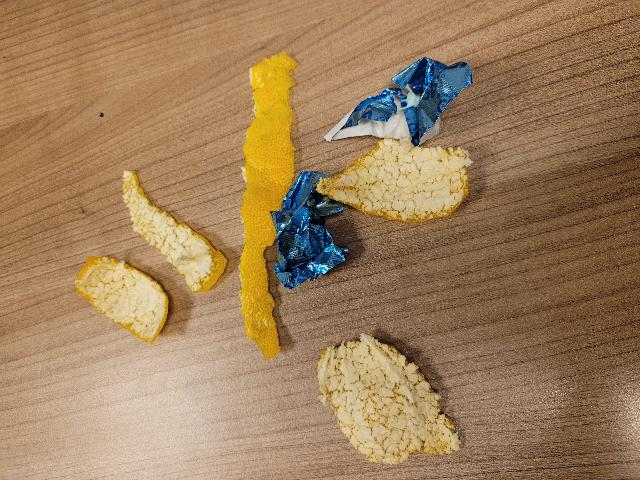Organik: (55, 170, 232, 345), (303, 334, 467, 469), (228, 45, 290, 368), (306, 133, 506, 225)
Plastik: (330, 50, 469, 143), (276, 168, 346, 303)
